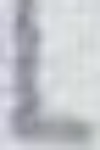L: (0, 0, 99, 149)
